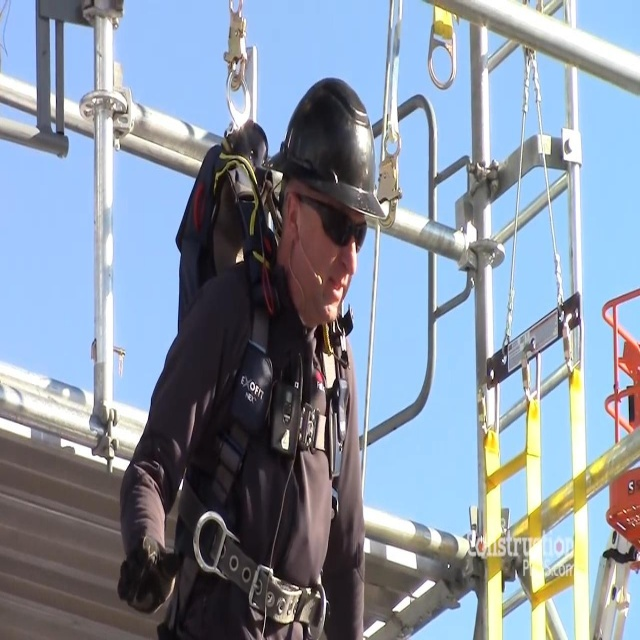Arnes_seguridad: (161, 122, 356, 640)
